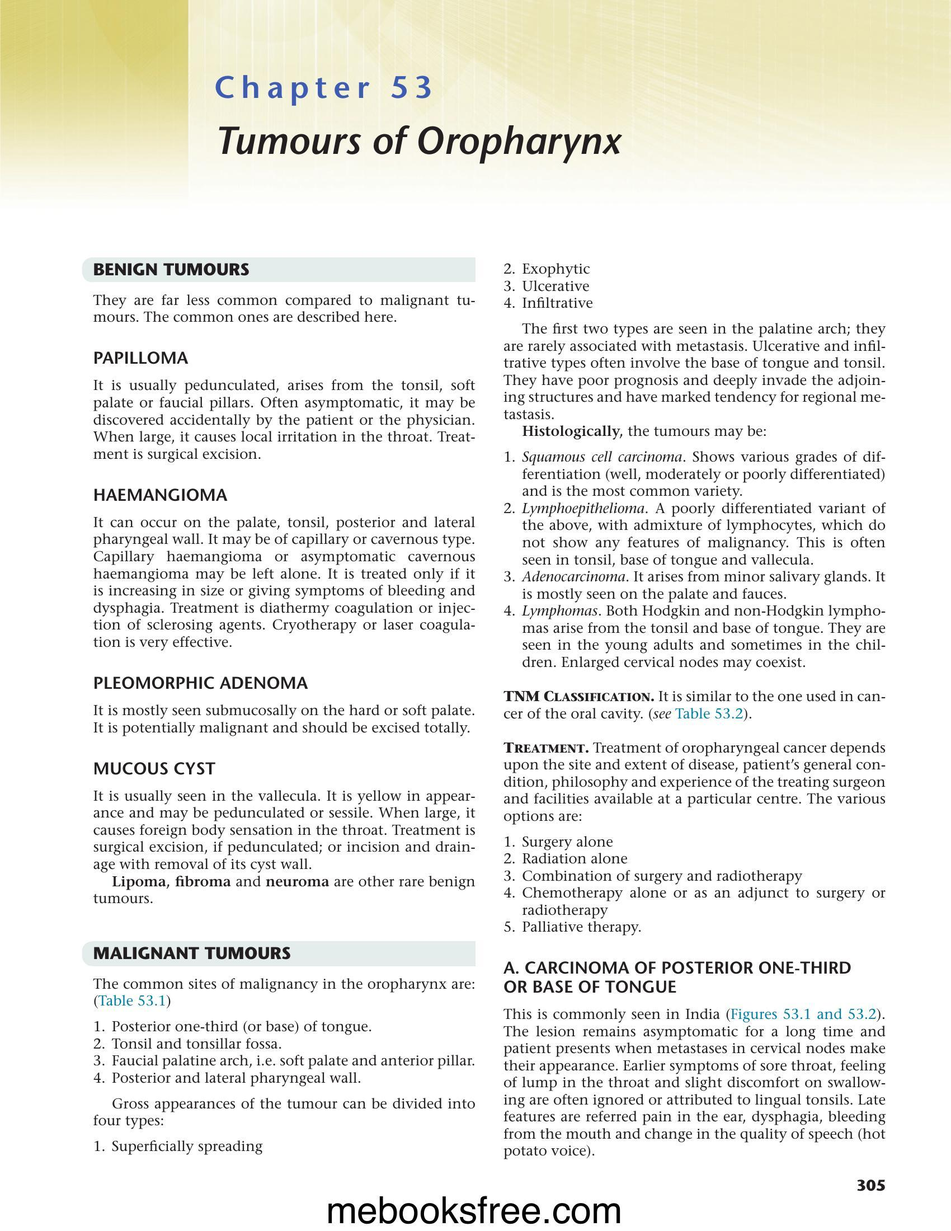chapter-heading: (216, 125, 622, 165)
list: (502, 448, 887, 671), (502, 834, 887, 936), (92, 1019, 476, 1088), (502, 261, 595, 311), (93, 1138, 264, 1156)
section-heading: (93, 945, 292, 961), (92, 262, 250, 277)
sub-section-heading: (502, 959, 853, 994), (92, 675, 310, 690), (93, 487, 228, 502), (93, 760, 217, 776), (93, 349, 190, 365)
text: (502, 1007, 887, 1161), (92, 515, 476, 652), (503, 689, 886, 826), (503, 321, 887, 440), (93, 789, 476, 905), (92, 378, 476, 464), (92, 1096, 476, 1131), (92, 703, 475, 738), (91, 976, 475, 1010), (92, 293, 476, 323)
